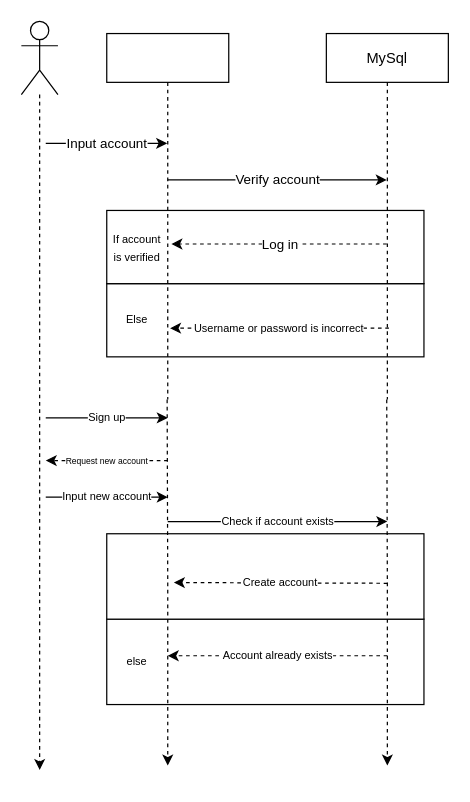
This 470x802 diagram has some shape labels left out. Each missing label, with the centre of its shape:
"If account doesn't exists" goes at (x=265, y=576).
"Program" goes at (x=167, y=216).
